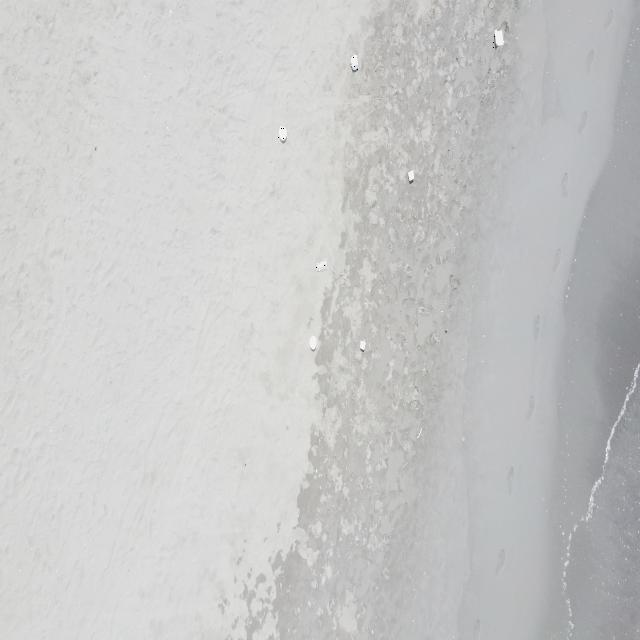take-away-containers: (493, 28, 504, 49), (278, 125, 288, 143), (350, 53, 358, 71), (406, 169, 416, 183), (309, 335, 317, 351), (359, 339, 367, 351)
takeaway-cup: (316, 258, 328, 273)
